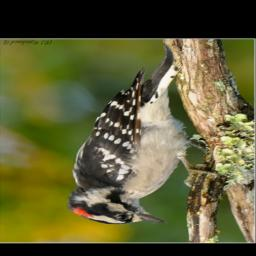Woodpecker: (63, 45, 214, 224)
